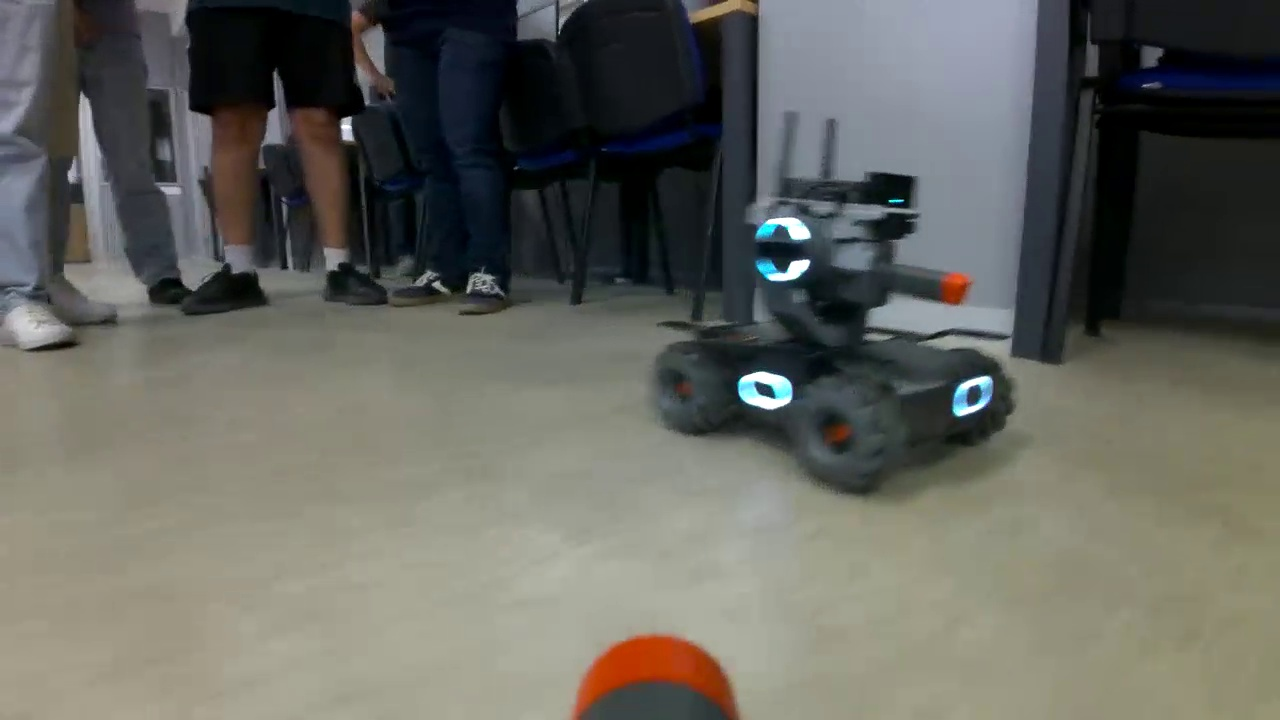robot: (653, 171, 1016, 494)
